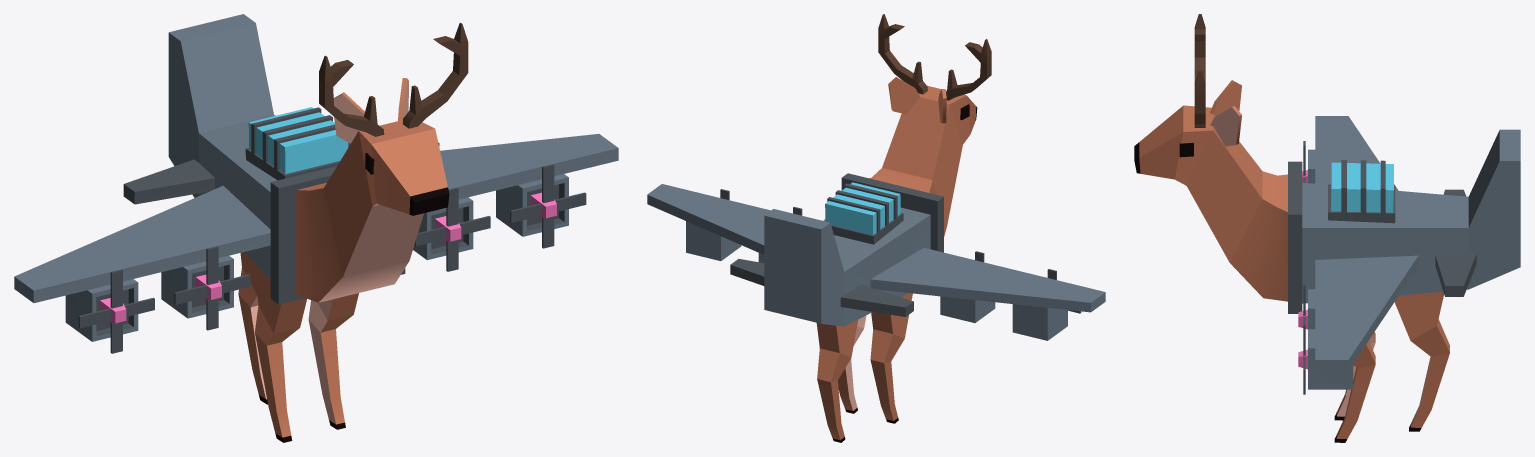
File: Bombombini_Gusini.fbx
3 views of the same model, side by side, from view 1: azimuth 30°, elevation 25°; view 2: azimuth 150°, elevation 25°; view 3: azimuth 270°, elevation 25° (orthographic). The views are drawn at different scales.
Visible parts, largest first — view 1: Bombombini_Gusini; view 2: Bombombini_Gusini; view 3: Bombombini_Gusini.
Boxes of the visible parts, box(x1,y1,x2,y2) form: Bombombini_Gusini: box(14, 14, 618, 442); Bombombini_Gusini: box(647, 14, 1105, 442); Bombombini_Gusini: box(1134, 14, 1520, 442).
Size of the model in its own units: 2.21 by 1.63 by 1.48.
